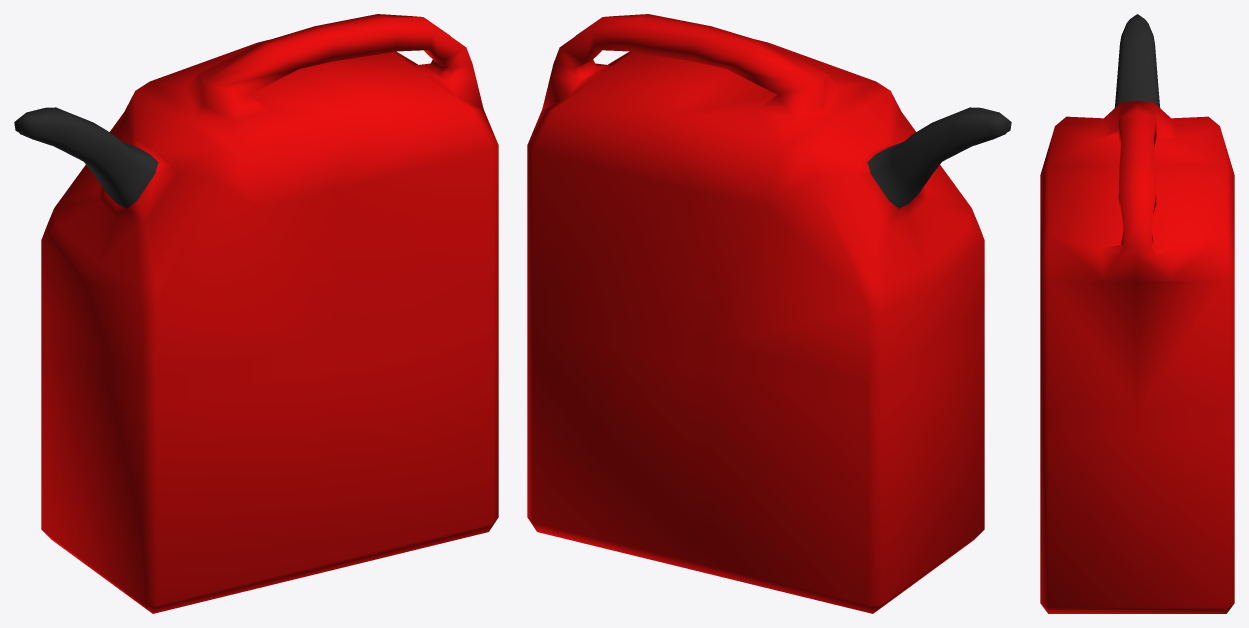
Rendered from GasCan.fbx.
3 views of the same model, side by side, from view 1: azimuth 30°, elevation 25°; view 2: azimuth 150°, elevation 25°; view 3: azimuth 270°, elevation 25° (orthographic). The views are drawn at different scales.
Visible parts, largest first — view 1: GasCan; view 2: GasCan; view 3: GasCan.
Boxes of the visible parts, x1,y1,x2,y2 form: GasCan: (14,14,498,613); GasCan: (527,14,1011,613); GasCan: (1040,14,1234,613).
Bounding box in the file's own units: 2.83 × 2.98 × 1.21.
